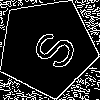S: (22, 22, 79, 74)
